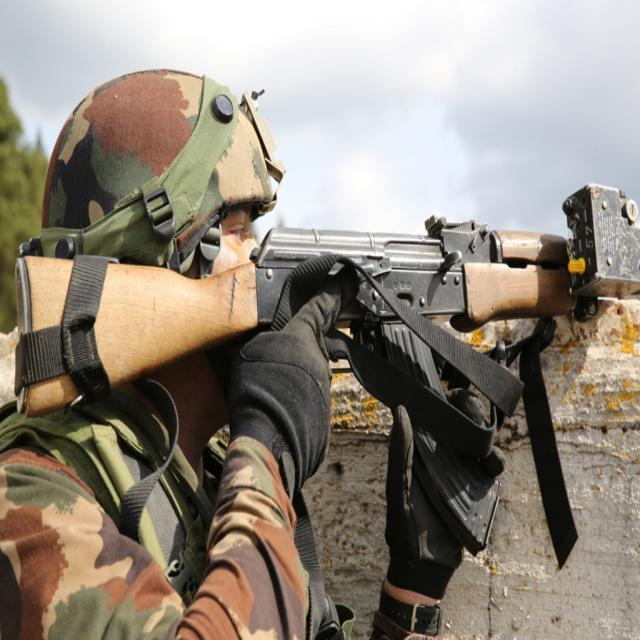weapon: (34, 158, 624, 556)
